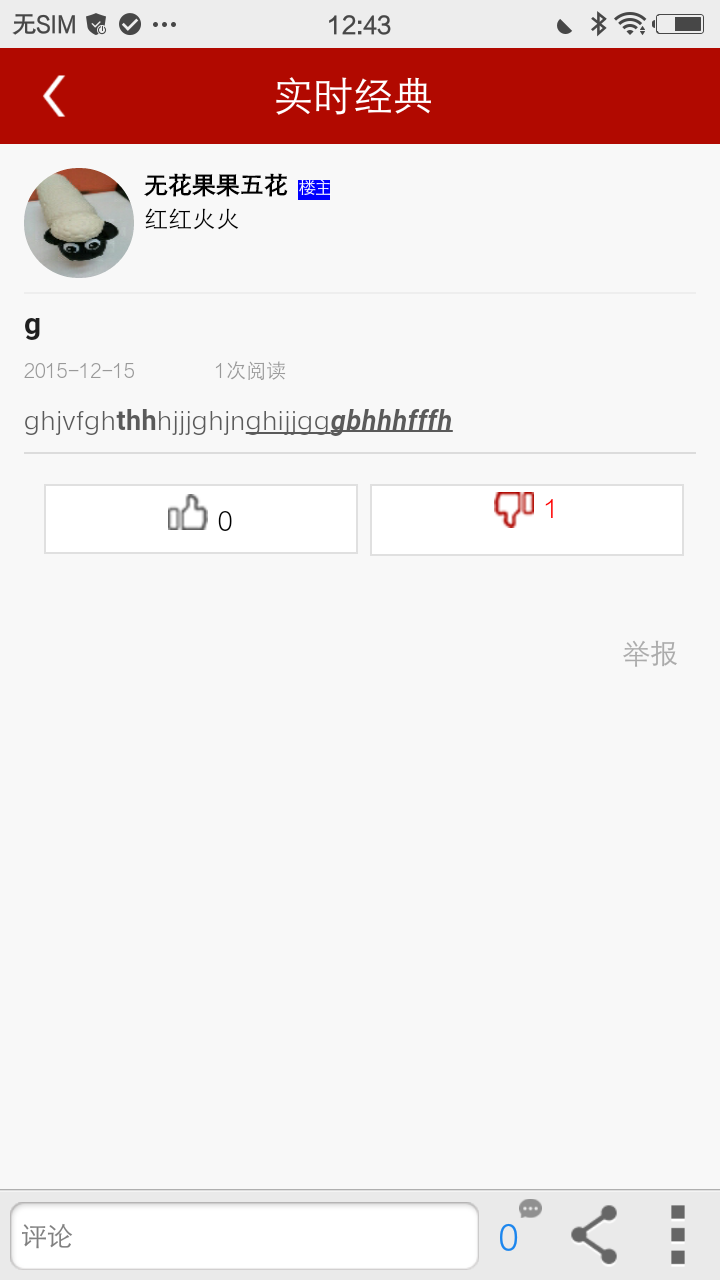textview: (4, 1201, 499, 1276)
